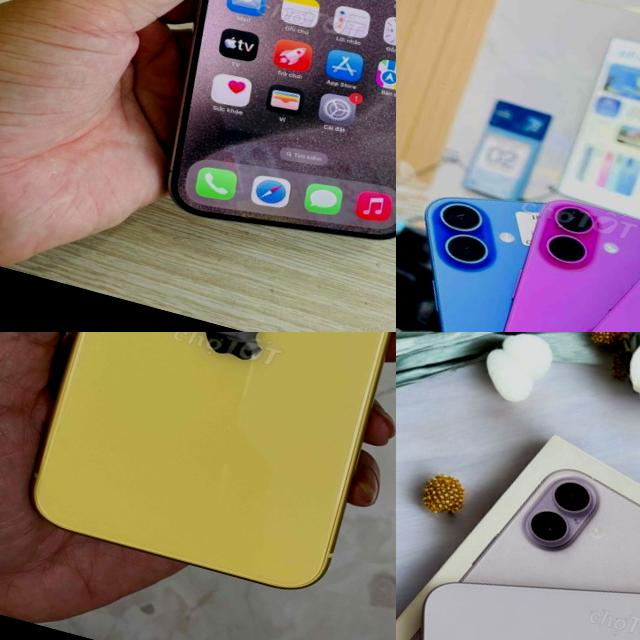gen_14: (19, 332, 396, 613)
gen_15: (110, 0, 396, 287)
gen_16: (478, 186, 640, 332)
gen_17: (396, 499, 640, 640)
